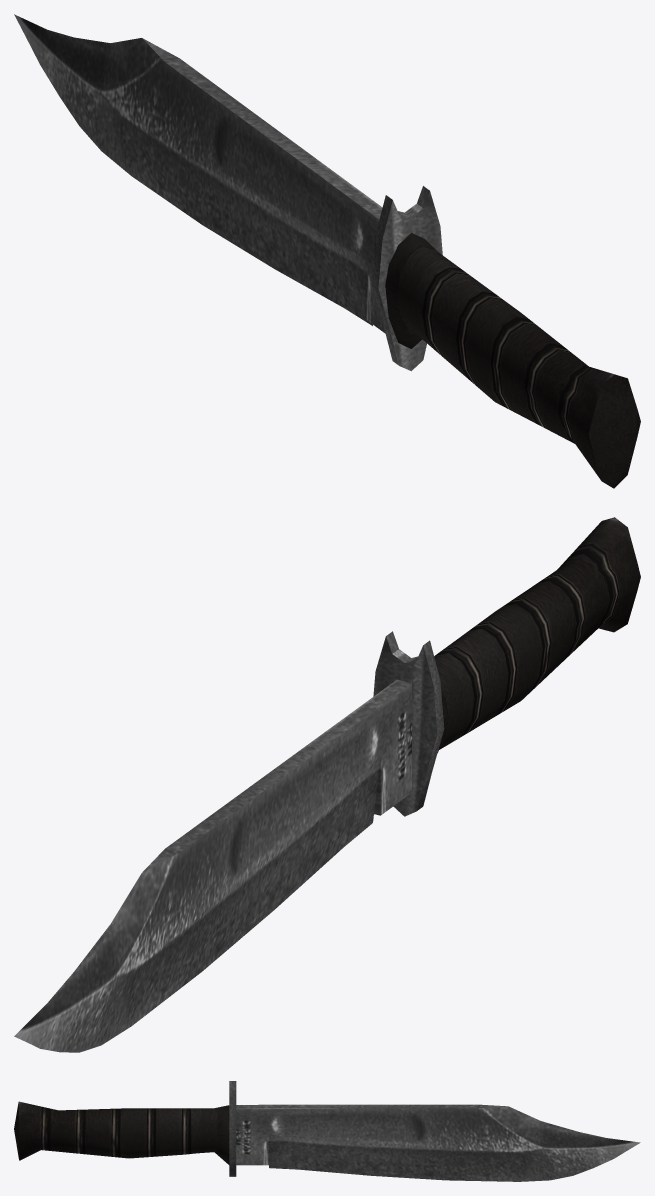
The model's file is knife3b.FBX.
3 renders of one model, top to bottom at view 1: azimuth 30°, elevation 25°; view 2: azimuth 150°, elevation 25°; view 3: azimuth 270°, elevation 25°, orthographic. The views are drawn at different scales.
Parts seen in each view (by area): view 1: knife3b; view 2: knife3b; view 3: knife3b.
Boxes of the visible parts, <box> form: knife3b: <box>14,14,640,488</box>; knife3b: <box>14,517,640,1052</box>; knife3b: <box>14,1081,640,1181</box>.
Bounding box in the file's own units: 0.024 × 0.3826 × 0.0648.
